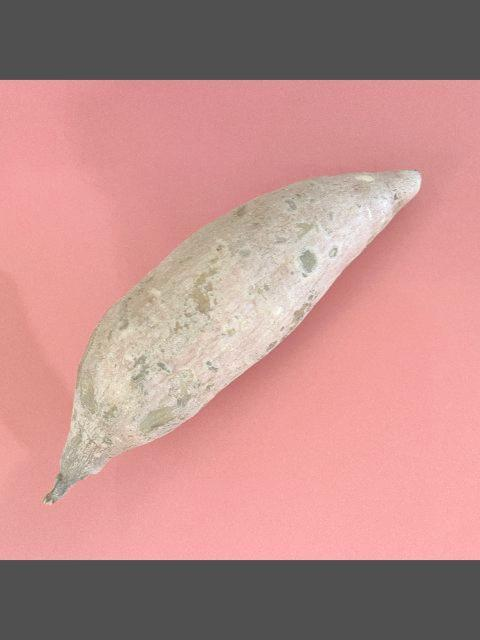sweetpotato: (38, 168, 424, 508)
